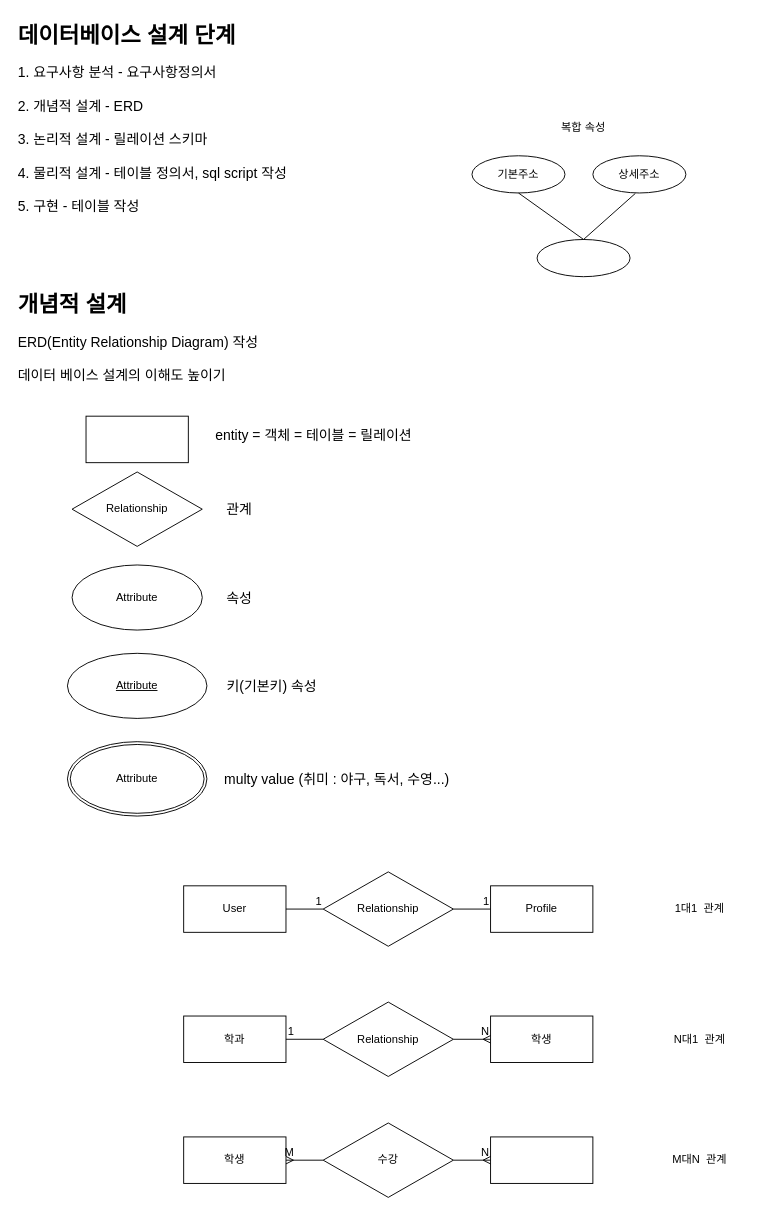
Image size: 766x1214. Some labels were removed from this diagram. Each missing label, with the box of its shape:
Entity: (85, 415, 188, 463)
과목: (490, 1136, 593, 1183)
배송지: (536, 239, 630, 277)
